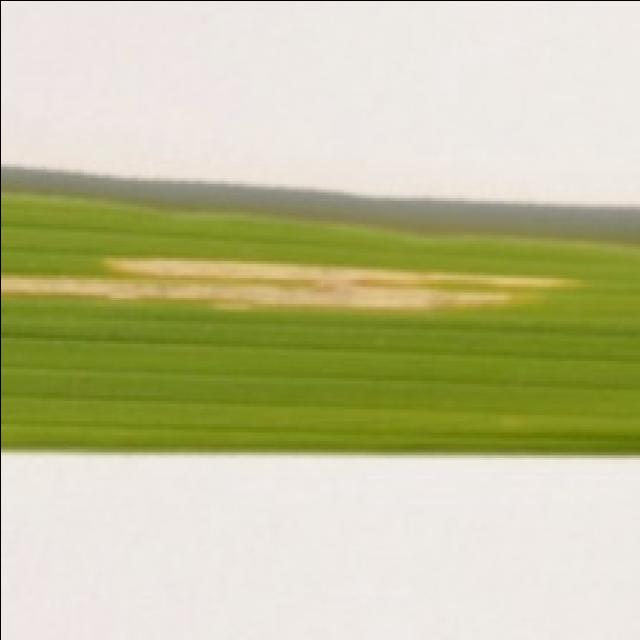Unhealthy: (0, 255, 584, 313)
